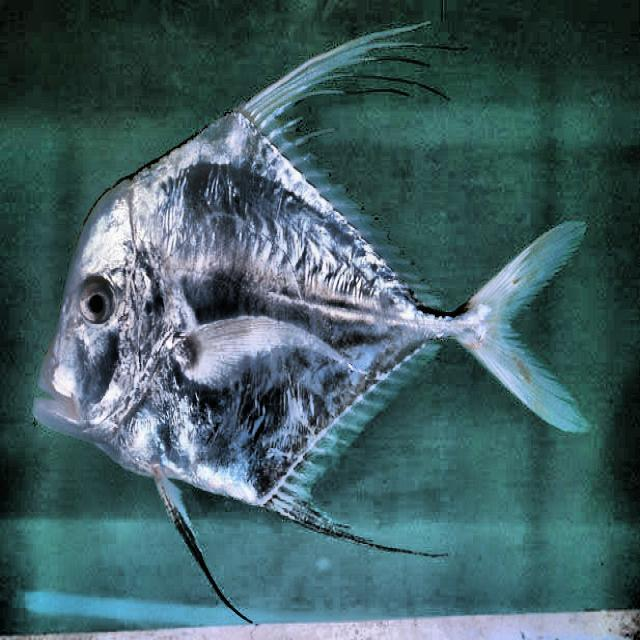fish: (38, 36, 580, 616)
